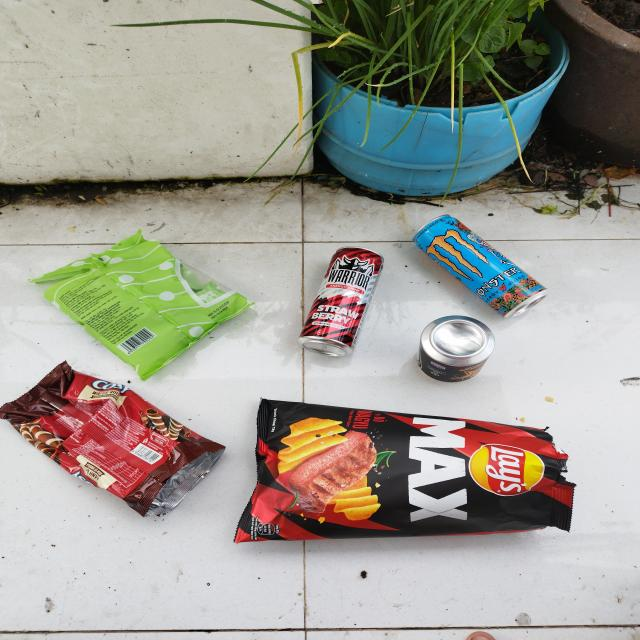can: (412, 214, 547, 318), (298, 246, 384, 358), (416, 315, 496, 383)
snack package: (232, 395, 576, 546), (0, 359, 227, 518), (25, 227, 257, 382)
